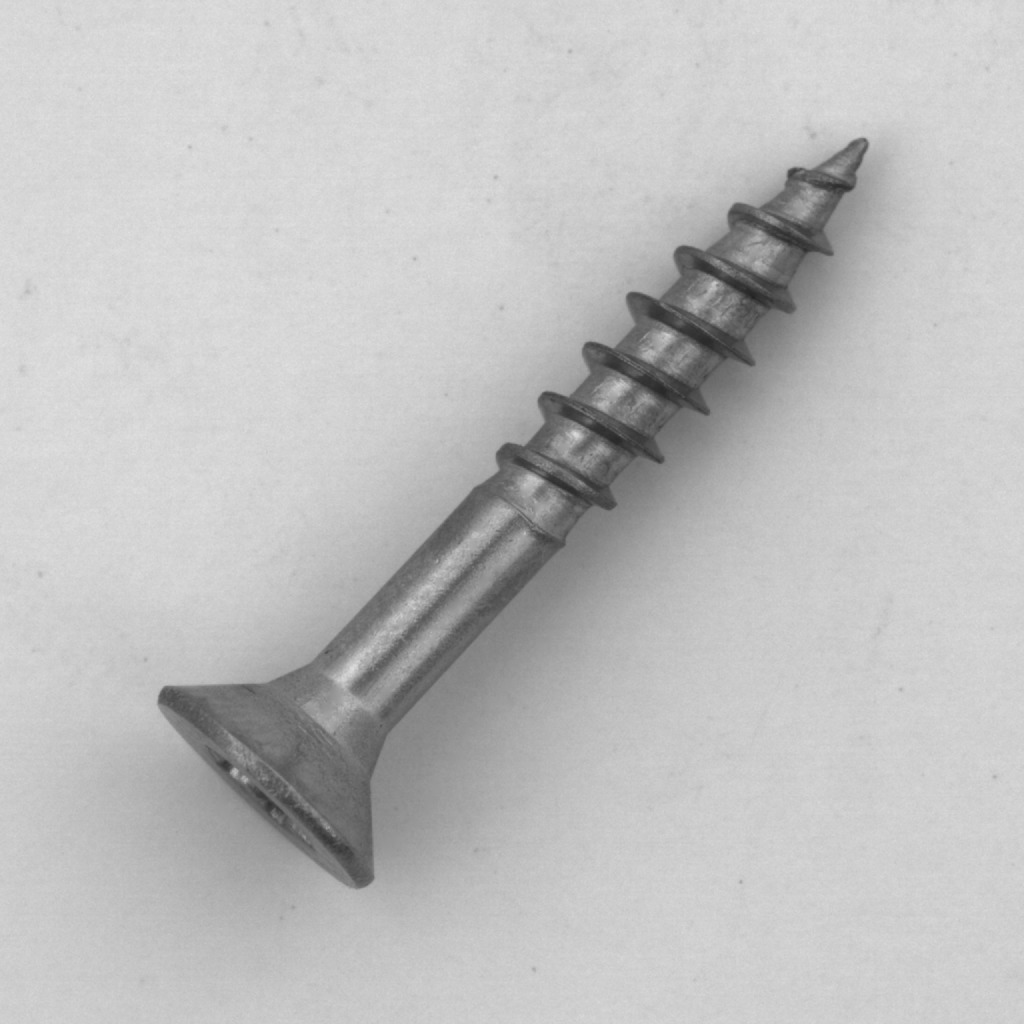good: (141, 113, 900, 903)
